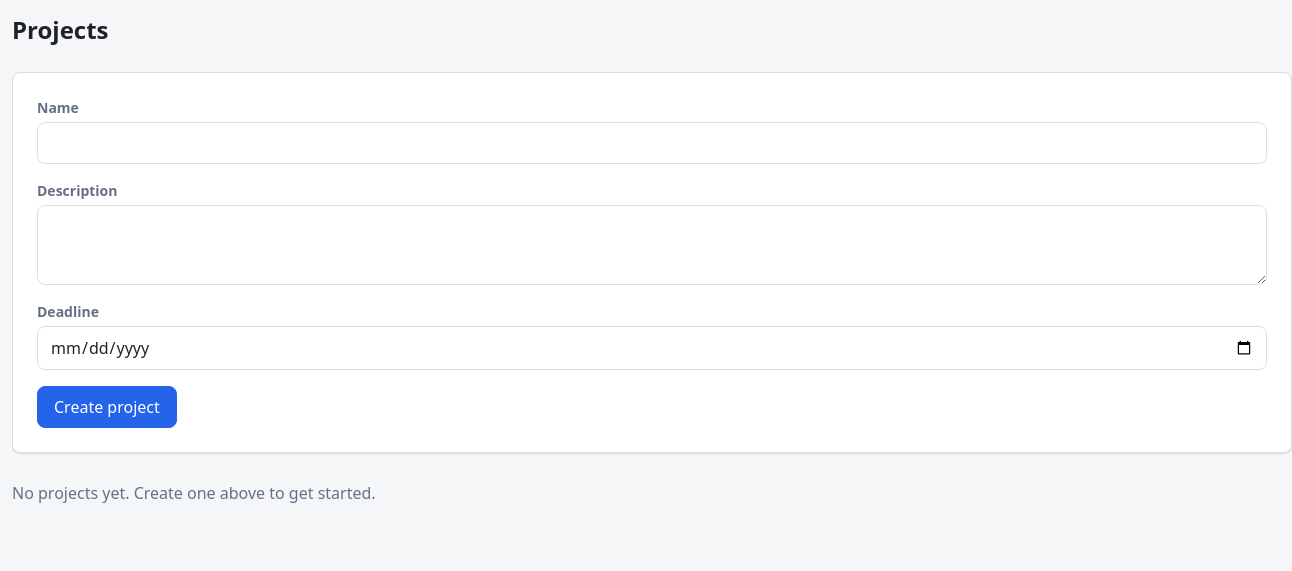
ProjectsPage › creating a project sends a real POST (with no client-supplied owner id) and the list updates via refetch
Expected: the text "No projects yet. Create one above to get started." is shown, [12,482,376,504]
Type "Demo Project" into the field labelled "Name". click: [652, 143]
box: [37,122,1267,164]
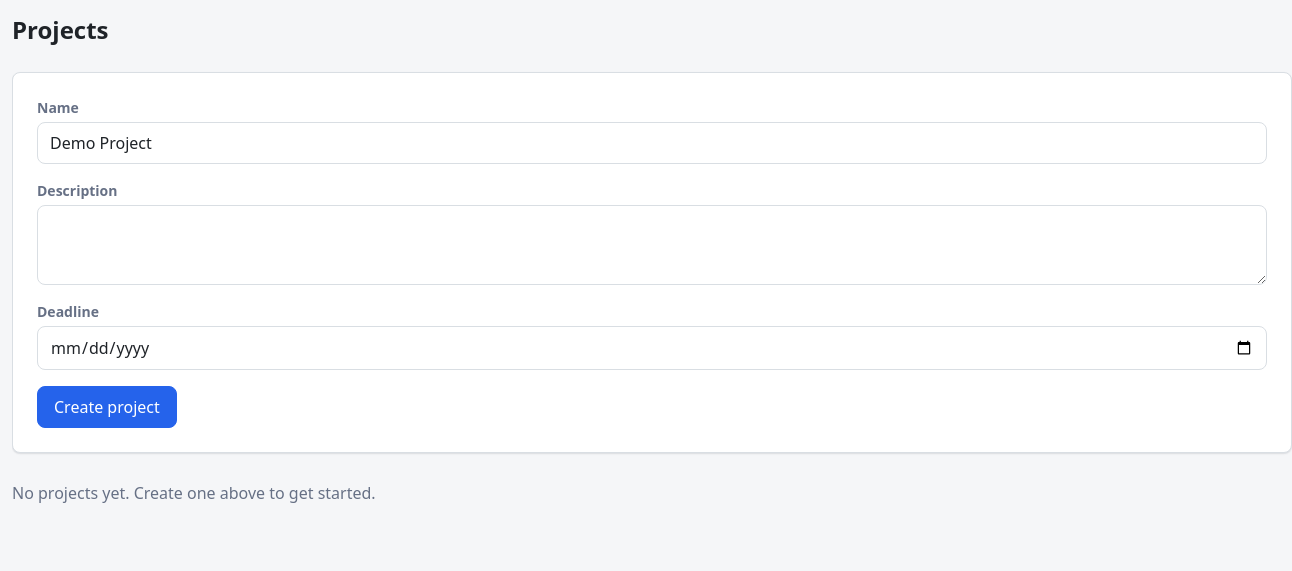
Click the button "Create project". click: [107, 407]
box: [37,386,177,428]
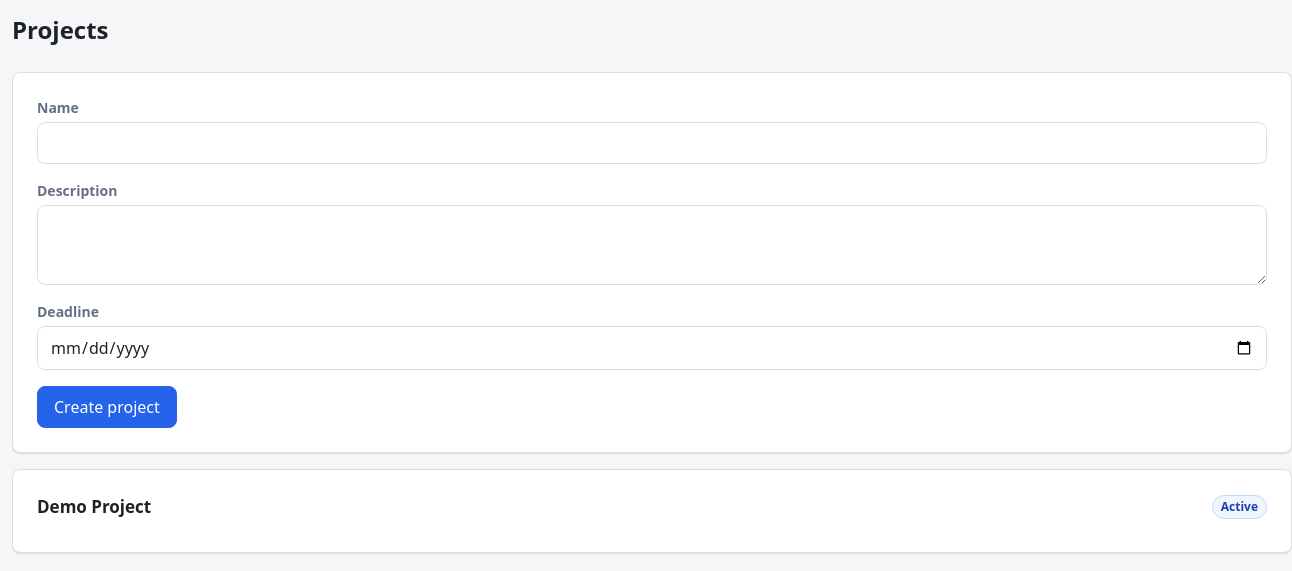
Result: the text "Demo Project" is shown at [37,494,151,520]
